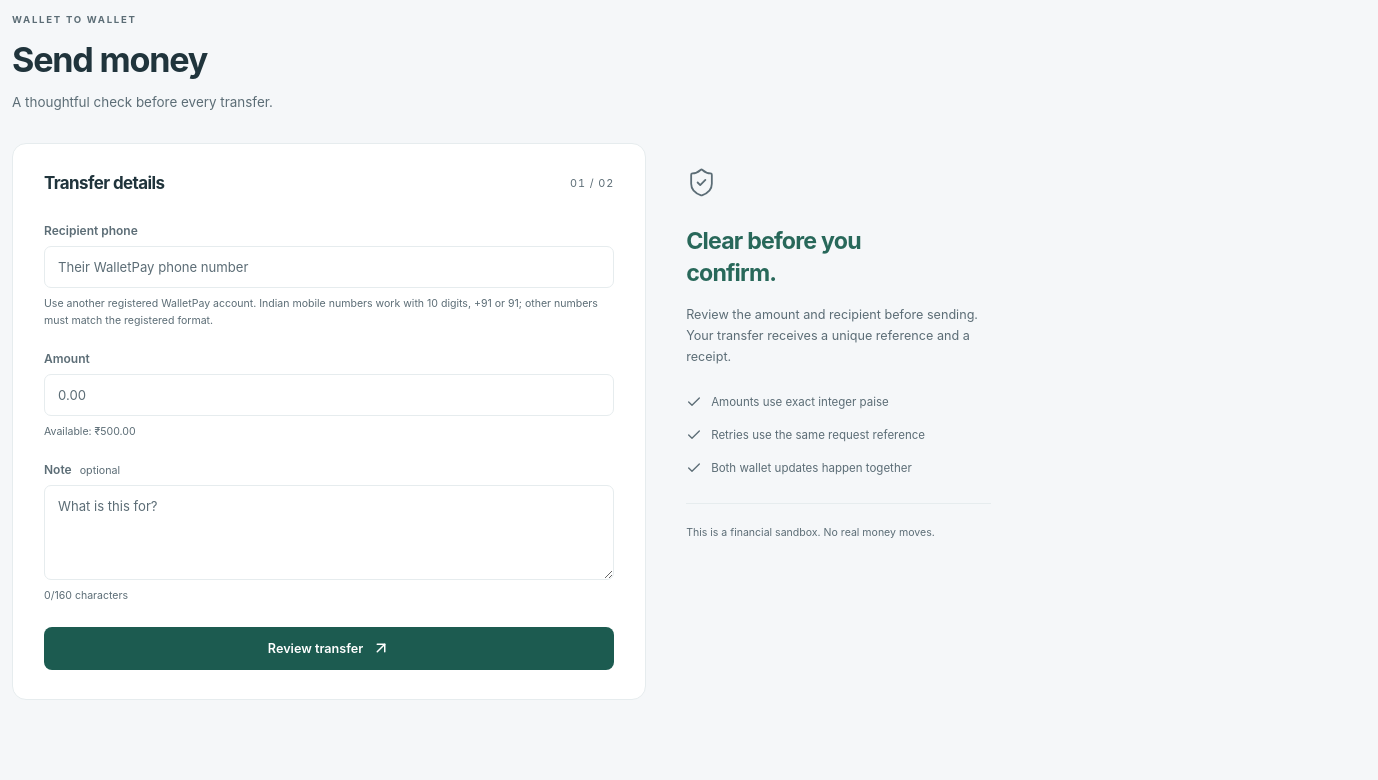
Scenario: transfer confirmation › requires review, sends exact paise and preserves idempotency on a retry
Type "9876543210" into the field labelled "Recipient phone" at (329, 267), box [44,246,614,288]
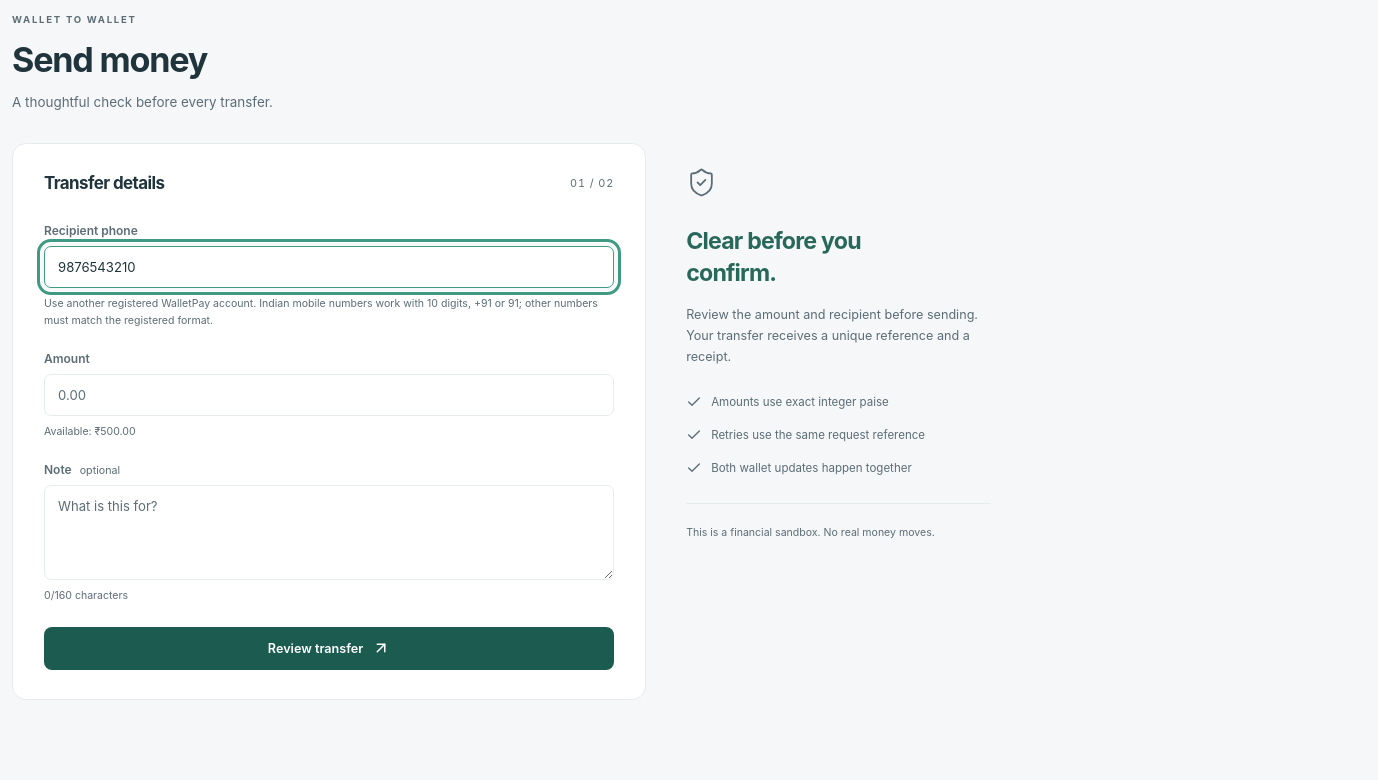
Type "125.29" into the field labelled "Amount" at (329, 395), box [44,374,614,416]
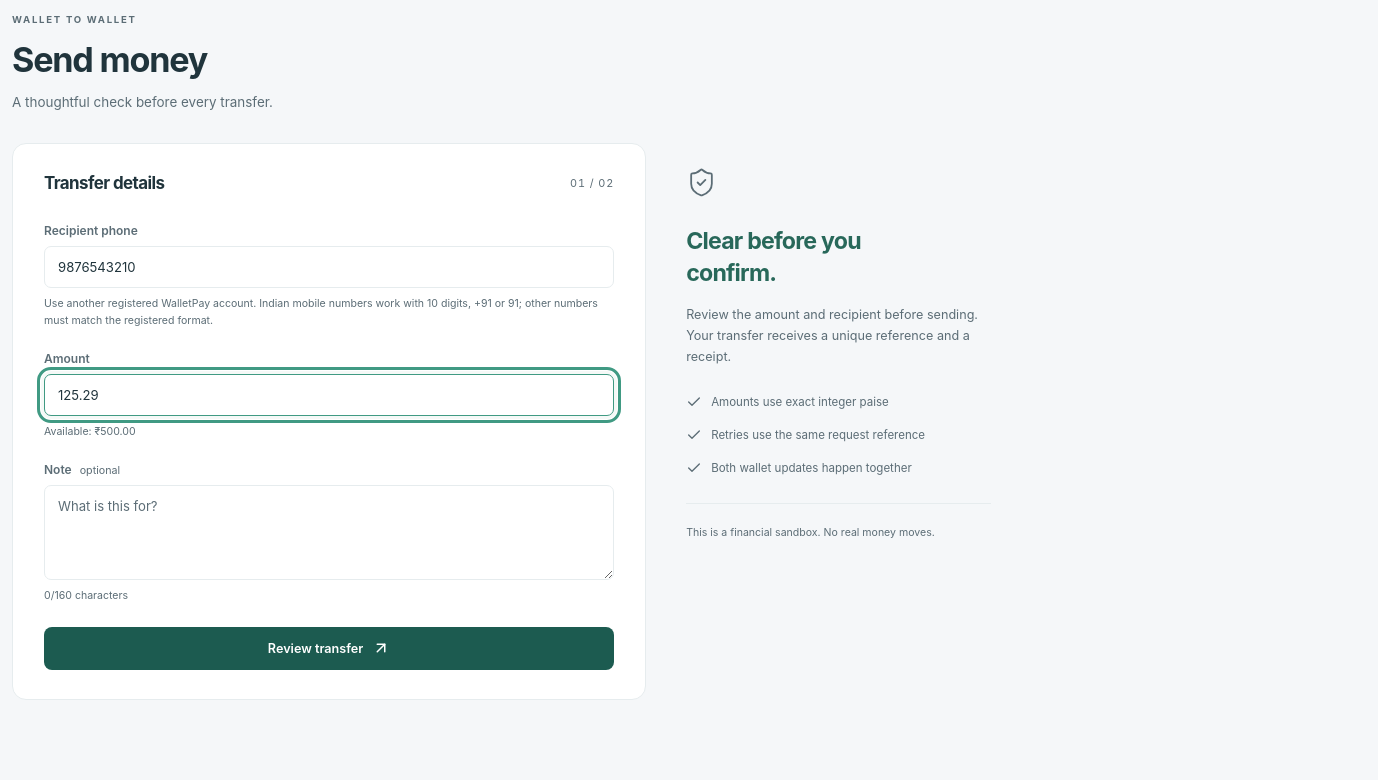
Click the button "Review transfer" at (329, 648), box [44,627,614,670]
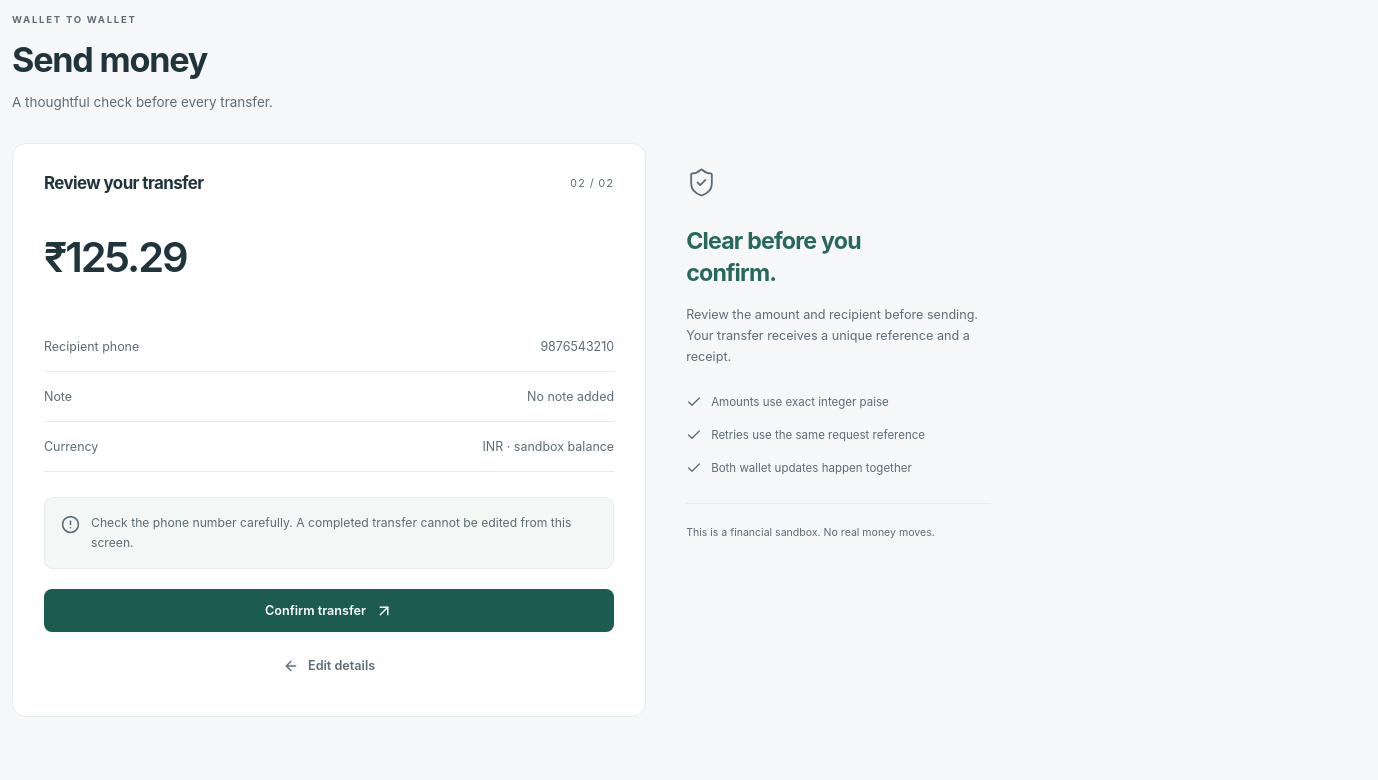
Check: the heading "Review your transfer" is shown, box [44,173,204,193]
Click the button "Confirm transfer" at (329, 610), box [44,589,614,632]
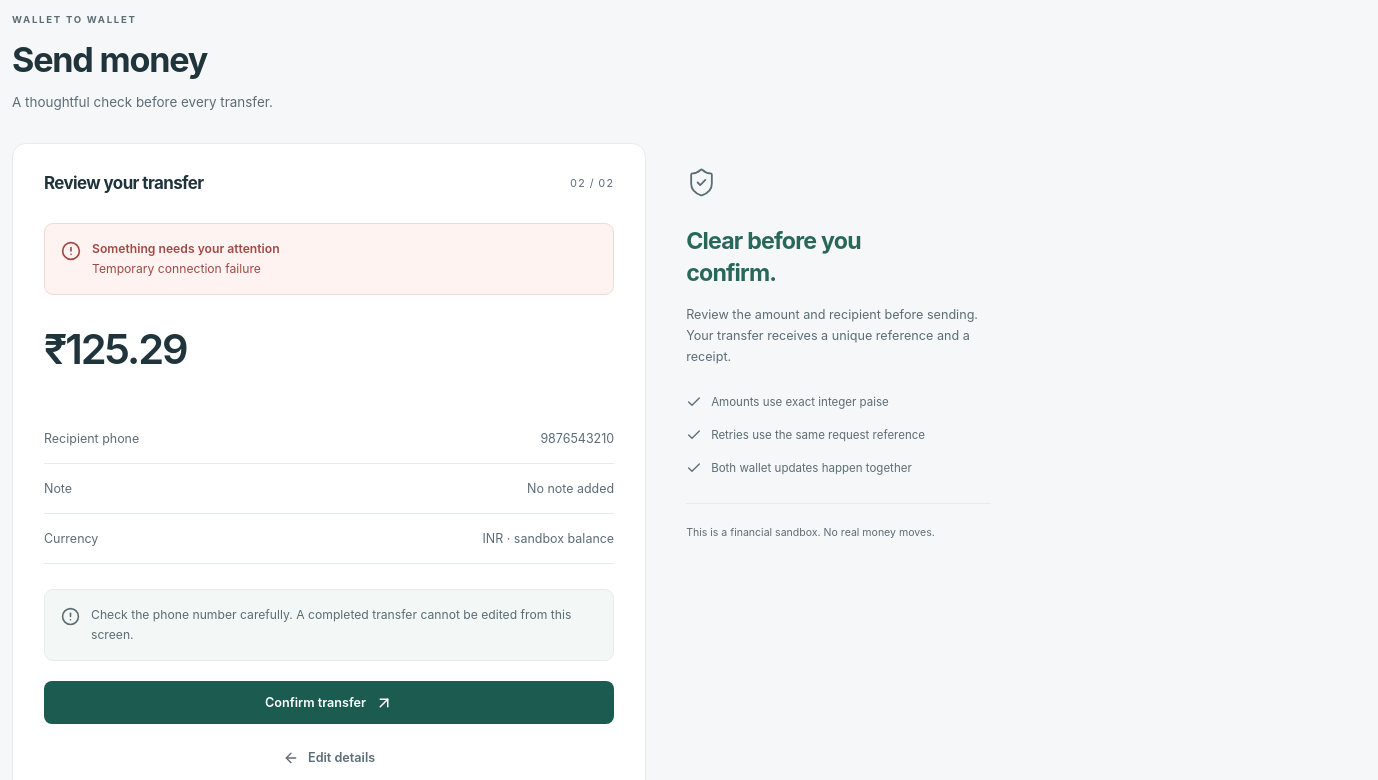
Check: the message shows "Temporary connection failure", box [92,261,261,276]
Click the button "Confirm transfer" at (329, 703), box [44,681,614,724]
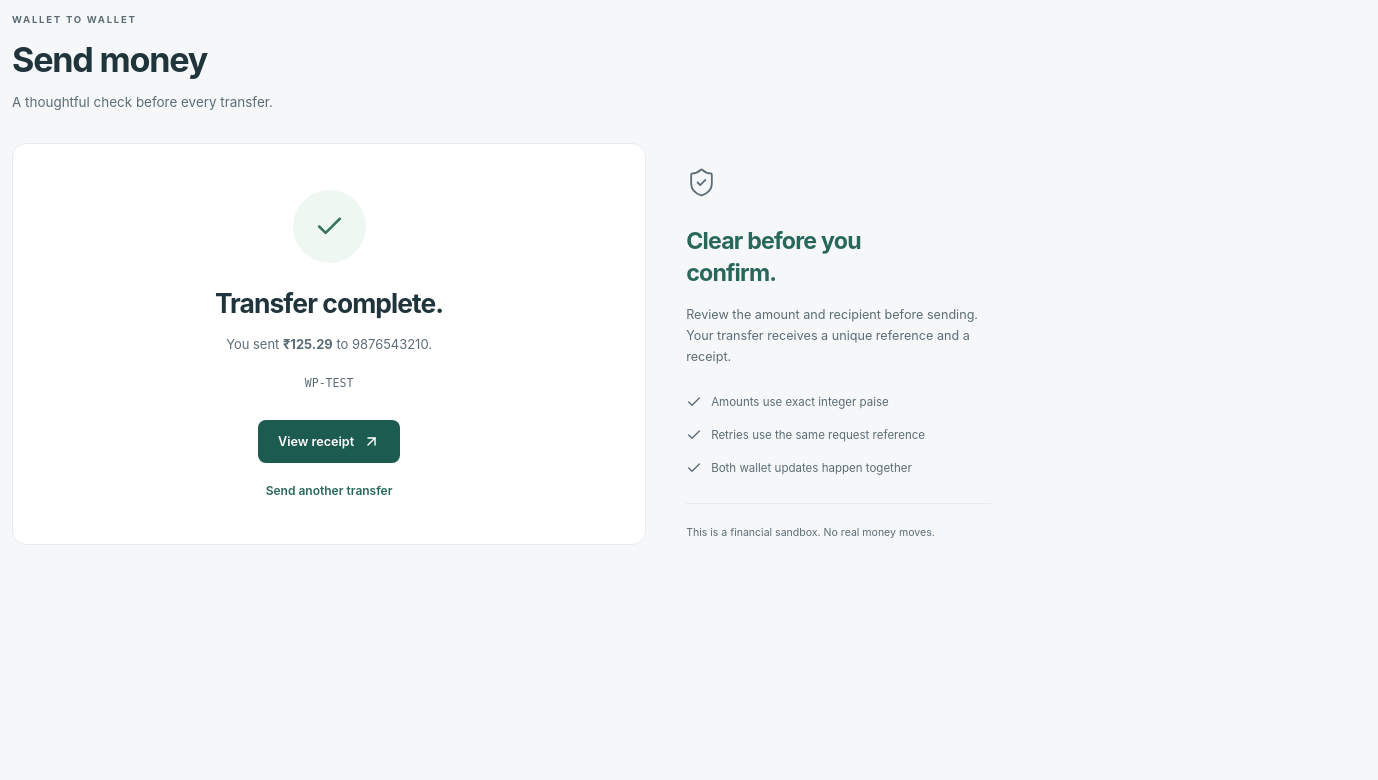
Check: the heading "Transfer complete." is shown, box [215,287,443,319]
